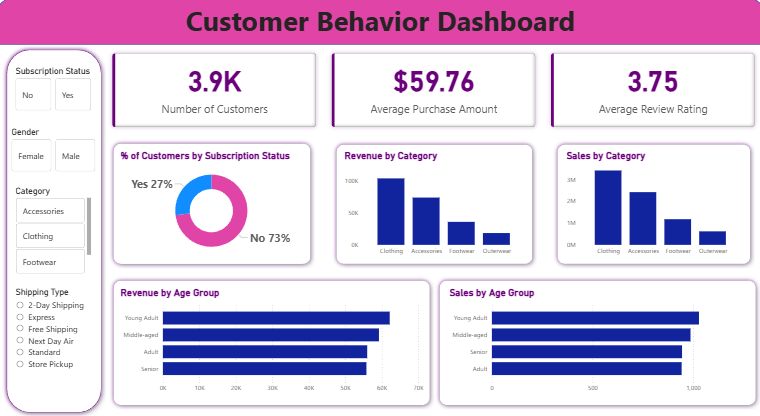

The dashboard page shown, as its layout file describes it:
{"tool":"powerbi","page":{"name":"Home","canvas":[1500,820],"ordinal":0},"visuals":[{"type":"cardVisual","fields":{"Data":["cleaned_customer.Number of Customers","cleaned_customer.Average Purchase Amount","cleaned_customer.Average Review Rating"]},"box":[207.5,90,1292.5,177.5],"z":0},{"type":"shape","box":[0,0,1500,90],"z":1000},{"type":"textbox","box":[0,0,1500,90],"z":2000},{"type":"shape","box":[218,274,404,254],"z":3000},{"type":"donutChart","title":"% of Customers by  Subscription Status","fields":{"Category":["cleaned_customer.subscription_status"],"Y":["CountNonNull(cleaned_customer.customer_id)"]},"box":[236,296,366,216],"z":4000},{"type":"shape","box":[654,276,402,252],"z":5000},{"type":"shape","box":[1088,276,396,252],"z":6000},{"type":"clusteredColumnChart","title":"Sales by Category","fields":{"Category":["cleaned_customer.category"],"Y":["Sum(cleaned_customer.customer_id)"]},"box":[1110,296,352,216],"z":7000},{"type":"clusteredColumnChart","title":"Revenue by Category","fields":{"Category":["cleaned_customer.category"],"Y":["Sum(cleaned_customer.purchase_amount)"]},"box":[674,296,364,216],"z":8000},{"type":"shape","box":[8,90,204,730],"z":9000},{"type":"advancedSlicerVisual","title":"Subscription Status","fields":{"Values":["cleaned_customer.subscription_status"]},"box":[30,132,158,92],"z":10000},{"type":"advancedSlicerVisual","title":"Gender","fields":{"Values":["cleaned_customer.gender"]},"box":[22,250,174,92],"z":11000},{"type":"advancedSlicerVisual","title":"Category","fields":{"Values":["cleaned_customer.category"]},"box":[30,366,158,178],"z":11001},{"type":"listSlicer","fields":{"Values":["cleaned_customer.shipping_type"]},"box":[30,564,158,216],"z":11002},{"type":"clusteredBarChart","title":"Revenue by Age Group","fields":{"Y":["Sum(cleaned_customer.purchase_amount)"],"Category":["cleaned_customer.age_group"]},"box":[236,580,588,200],"z":11003},{"type":"shape","box":[218,544,638,262],"z":11004},{"type":"clusteredBarChart","title":"Revenue by Age Group","fields":{"Category":["cleaned_customer.age_group"],"Y":["Sum(cleaned_customer.purchase_amount)"]},"box":[236,564,604,216],"z":11005},{"type":"shape","box":[856,544,638,262],"z":11006},{"type":"clusteredBarChart","title":"Sales by Age Group","fields":{"Category":["cleaned_customer.age_group"],"Y":["CountNonNull(cleaned_customer.customer_id)"]},"box":[880,564,582,216],"z":11007}]}

Visuals, with their boxes in screenshot pixels (x1, y1, x2, y2), scaled from the page's 1500x820 canvas onto the 760x416 screenshot:
cardVisual - cleaned_customer.Number of Customers x cleaned_customer.Average Purchase Amount: 105 46 759 136
shape: 0 0 759 46
textbox: 0 0 759 46
shape: 110 139 315 268
"% of Customers by  Subscription Status" donutChart: 120 150 305 260
shape: 331 140 535 268
shape: 551 140 752 268
"Sales by Category" clusteredColumnChart: 562 150 741 260
"Revenue by Category" clusteredColumnChart: 341 150 526 260
shape: 4 46 107 415
"Subscription Status" advancedSlicerVisual: 15 67 95 114
"Gender" advancedSlicerVisual: 11 127 99 174
"Category" advancedSlicerVisual: 15 186 95 276
listSlicer - cleaned_customer.shipping_type: 15 286 95 396
"Revenue by Age Group" clusteredBarChart: 120 294 417 396
shape: 110 276 434 409
"Revenue by Age Group" clusteredBarChart: 120 286 426 396
shape: 434 276 757 409
"Sales by Age Group" clusteredBarChart: 446 286 741 396
